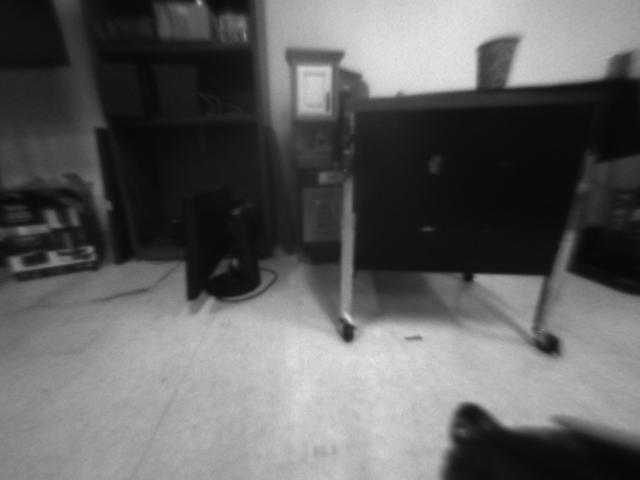coffee_cup: (472, 35, 521, 89)
